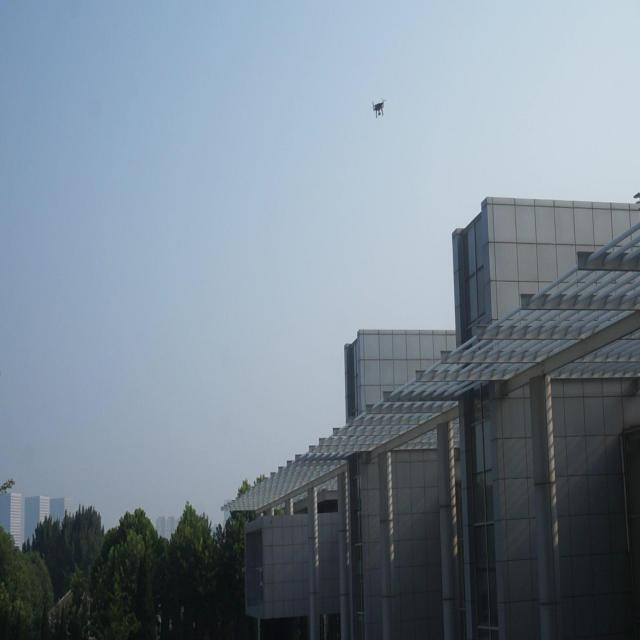UAV: (372, 99, 386, 118)
